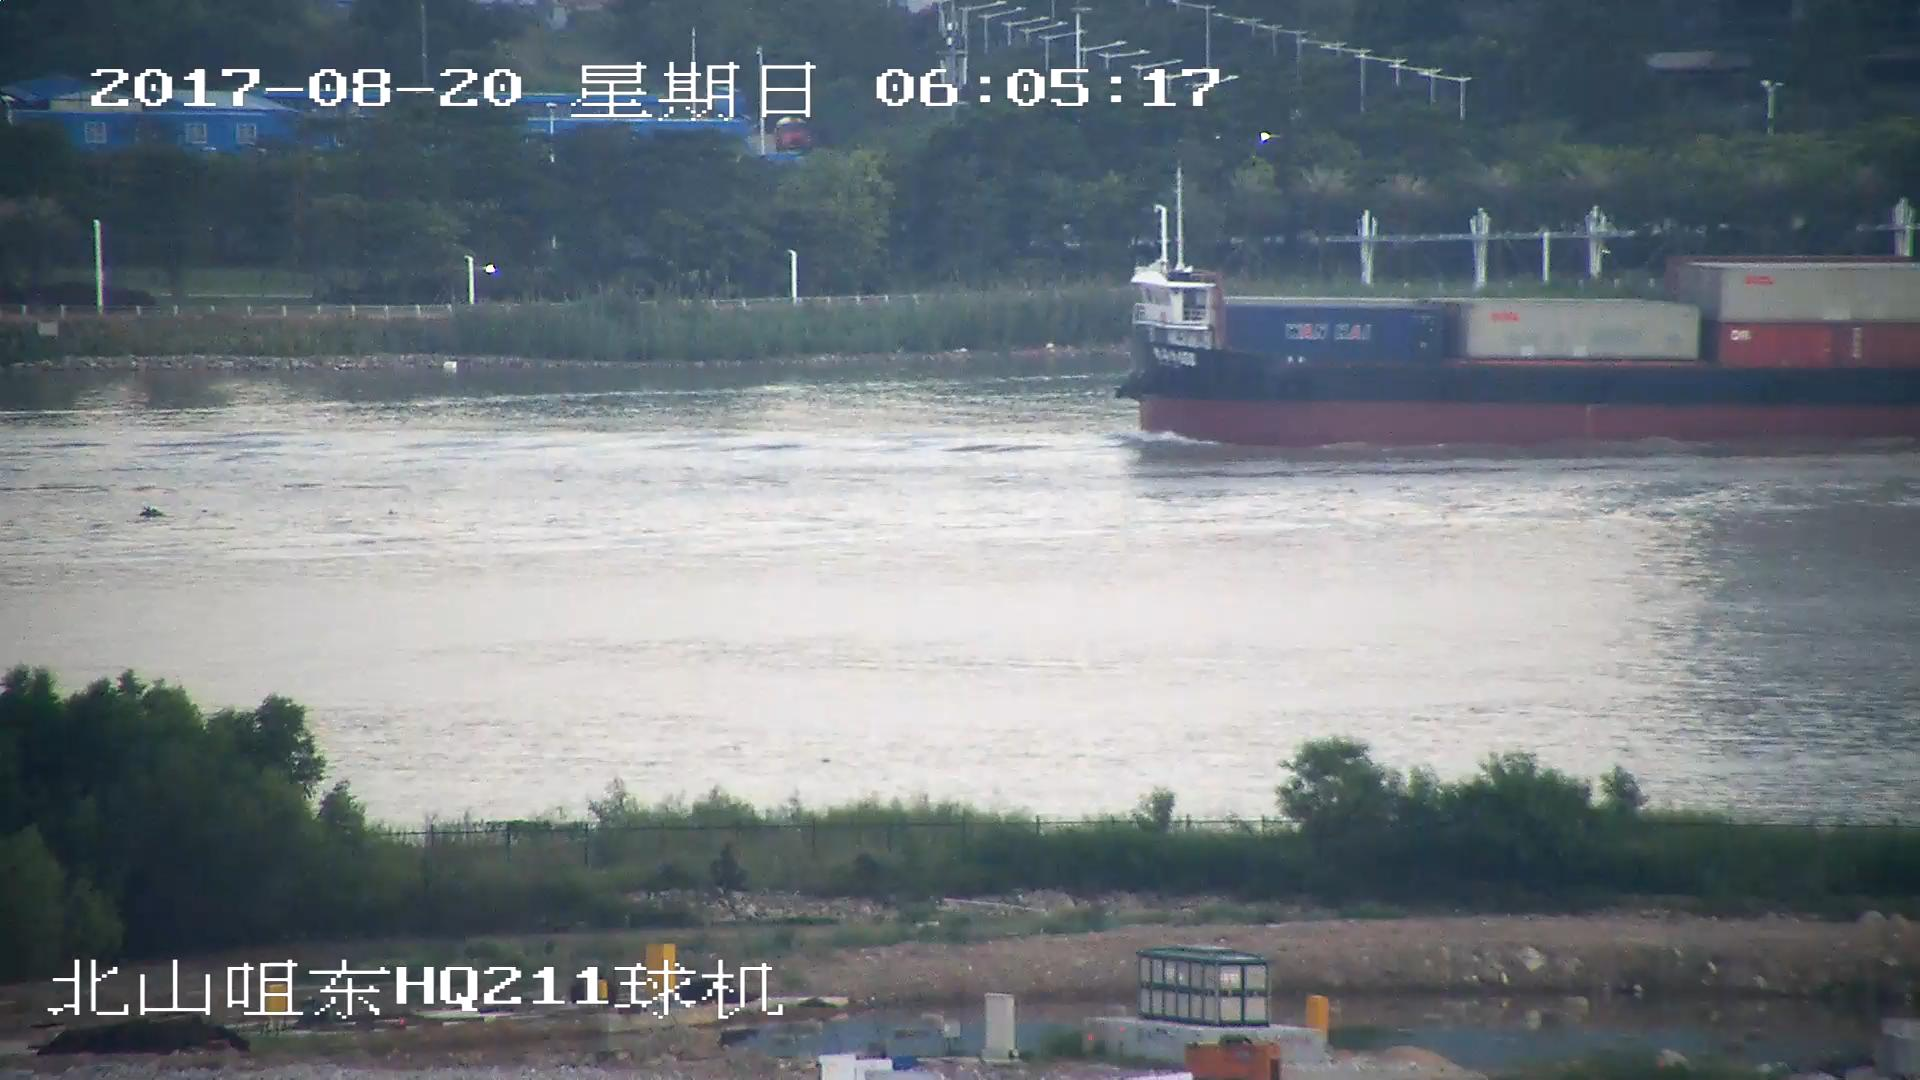container ship: (1107, 163, 1920, 455)
